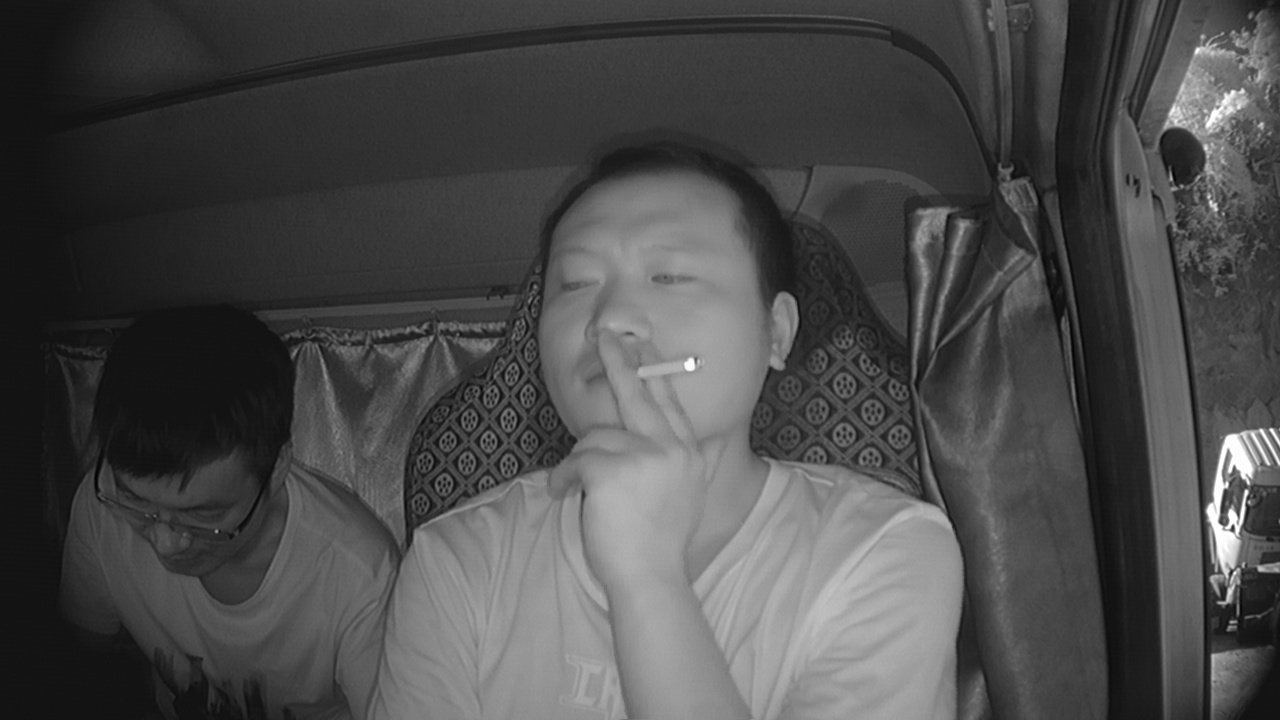hand: (563, 344, 720, 564)
